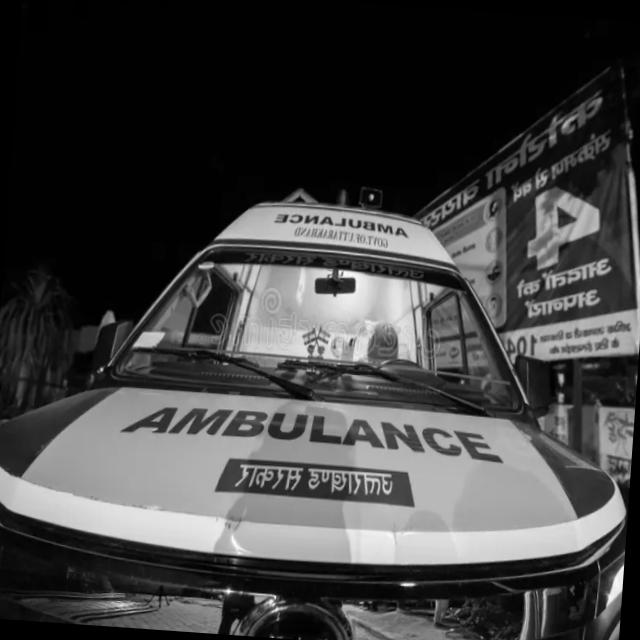ambulance: (86, 390, 504, 476), (250, 204, 418, 258)
